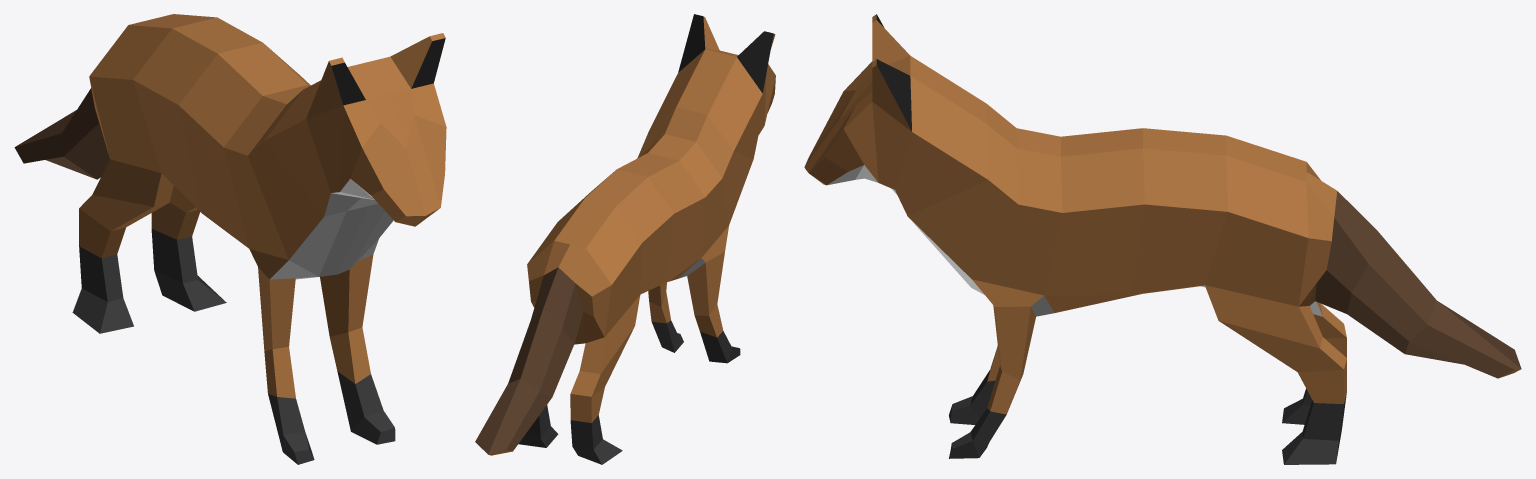
The model's file is FoxColoranim.dae.
The picture shows the model from 3 angles, left to right: view 1: azimuth 30°, elevation 25°; view 2: azimuth 150°, elevation 25°; view 3: azimuth 270°, elevation 25°; orthographic projection. The views are drawn at different scales.
Visible parts, largest first — view 1: Plane; view 2: Plane; view 3: Plane.
Part boxes in pixels (left/top/right/bottom): Plane: left=14, top=14, right=446, bottom=464; Plane: left=475, top=14, right=775, bottom=464; Plane: left=804, top=14, right=1521, bottom=464.
Bounding box in the file's own units: 0.9321 × 4.99 × 3.05.
